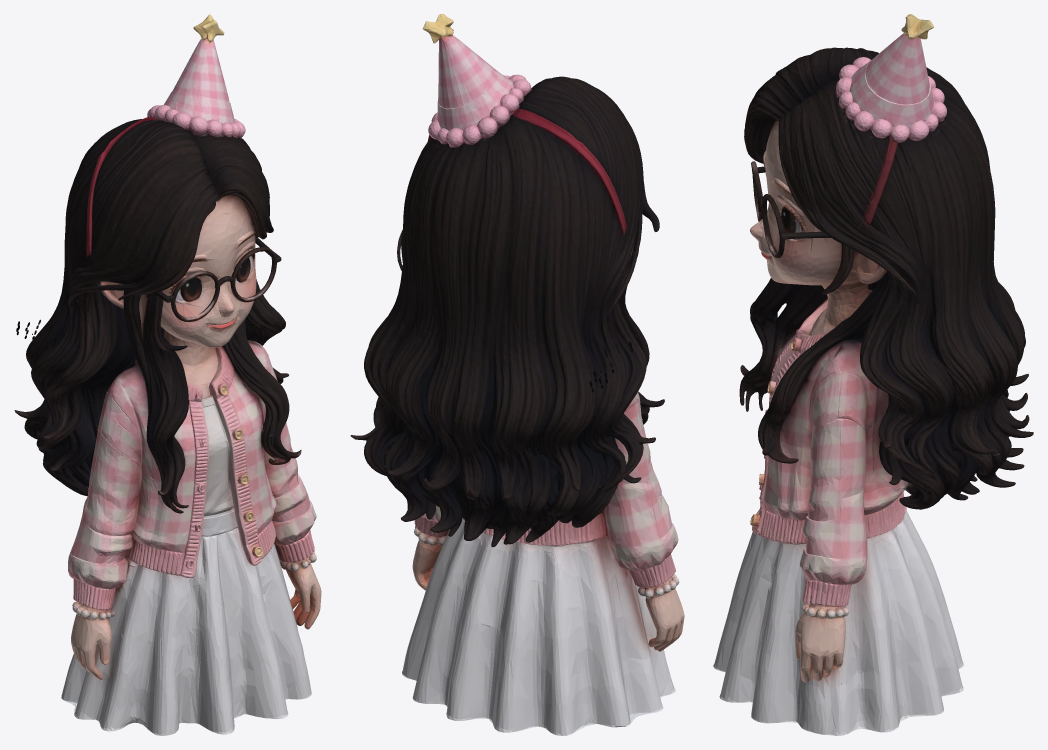
File: character.glb
The picture shows the model from 3 angles, left to right: view 1: azimuth 30°, elevation 25°; view 2: azimuth 150°, elevation 25°; view 3: azimuth 270°, elevation 25°; orthographic projection. The views are drawn at different scales.
Parts seen in each view (by area): view 1: geometry_0; view 2: geometry_0; view 3: geometry_0.
Part boxes in pixels (x1=…): geometry_0: x1=14, y1=14, x2=321, y2=735; geometry_0: x1=350, y1=14, x2=684, y2=735; geometry_0: x1=713, y1=14, x2=1033, y2=735.
Size of the model in its own units: 0.4139 by 0.9993 by 0.4198.
1 material, 1 textured.
